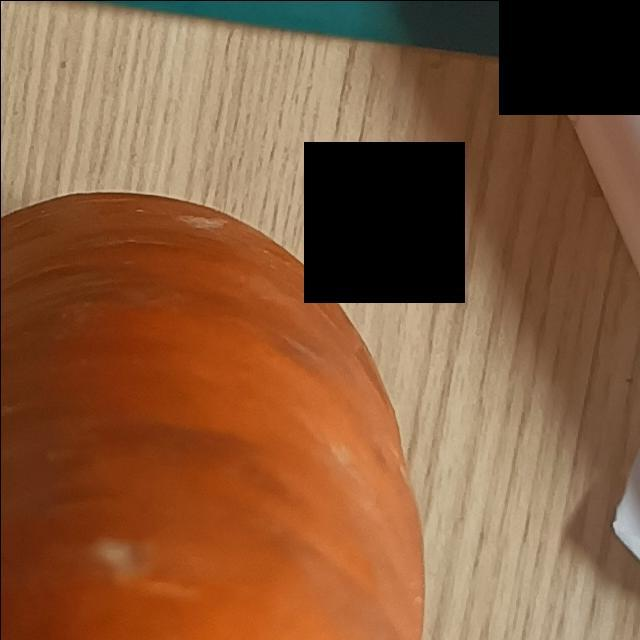carrot: (1, 187, 450, 640)
